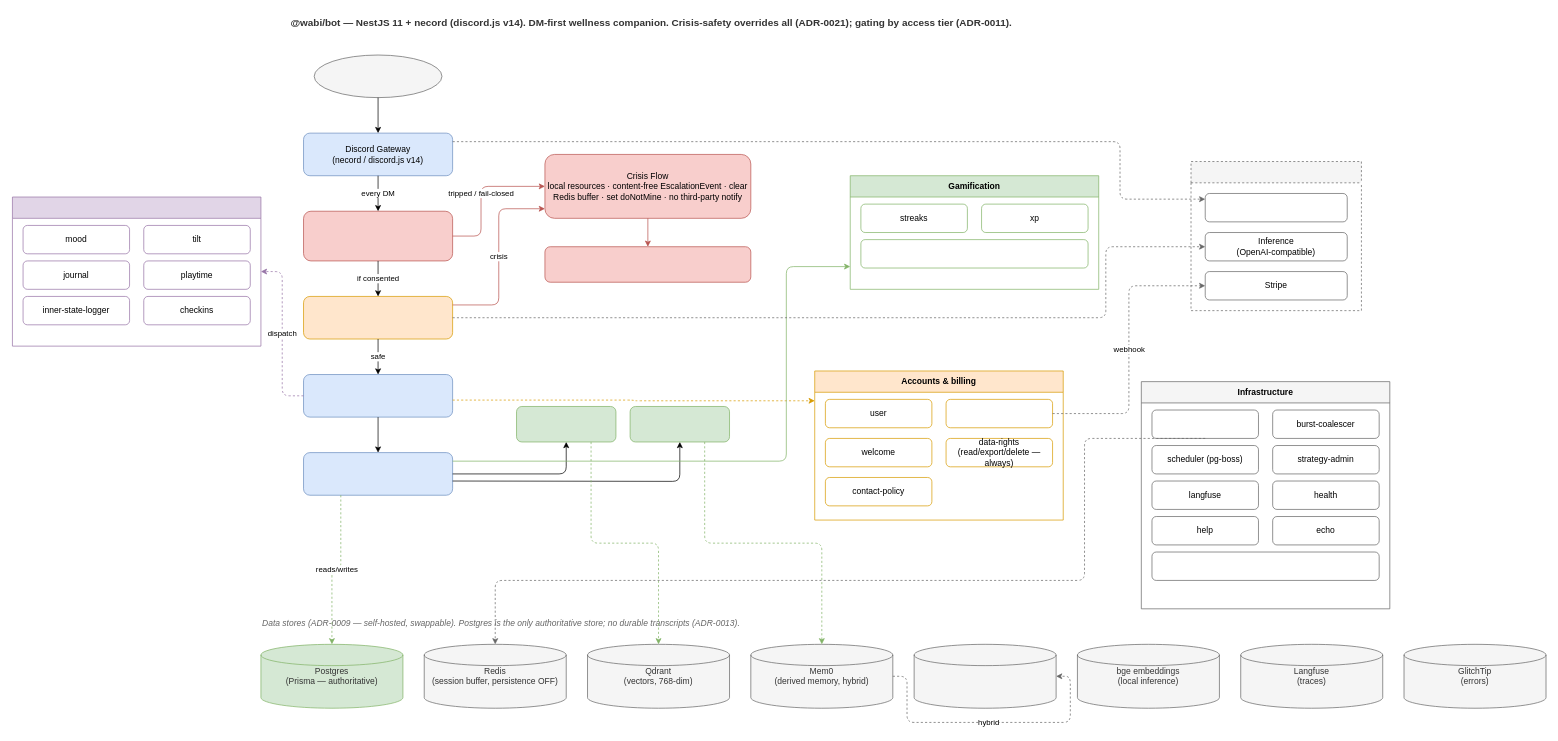
This 1558x741 diagram has some shape labels left out. The shapes that lost their labels are listed below. From the top down, each one's box as (x1, y1, x2, y2) in pixels, then its label:
(313, 54, 442, 98): Person (Discord DM)
(1205, 193, 1347, 222): Discord API
(303, 211, 453, 261): crisisTripwire zero-dep · runs first · FAIL-CLOSED (ADR-0021)
(860, 239, 1088, 268): habit-engagement
(1190, 161, 1361, 311): External services
(12, 196, 261, 346): Inner-state logging
(544, 246, 751, 282): crisis-aftermath
(303, 296, 453, 339): Crisis Classifier (only when consented)
(303, 374, 453, 417): Intent Router hub-and-spoke dispatch
(945, 399, 1053, 428): billing (Stripe webhook)
(516, 406, 616, 442): strategy-retrieval (Qdrant vectors)
(629, 406, 730, 442): memory (derived, Mem0)
(1151, 409, 1258, 438): session-buffer (Redis)
(303, 452, 453, 495): Coaching Service the heart · ACTIVE access only
(1151, 551, 1379, 580): spoke-session
(913, 644, 1056, 708): neo4j (per-user graph)
